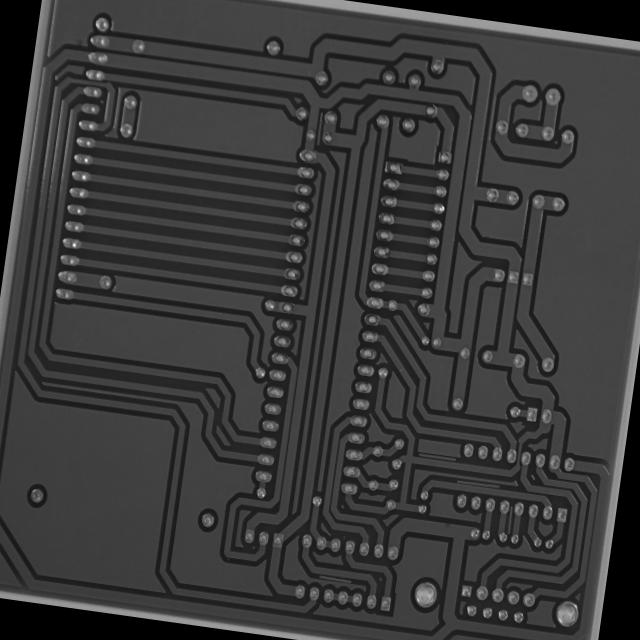spurious_copper: (452, 474, 504, 494), (315, 570, 358, 589), (413, 448, 458, 465), (312, 107, 328, 148), (502, 500, 518, 537)
